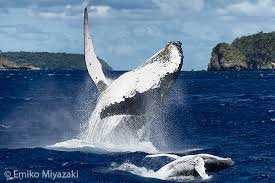humpback: (80, 41, 184, 143)
